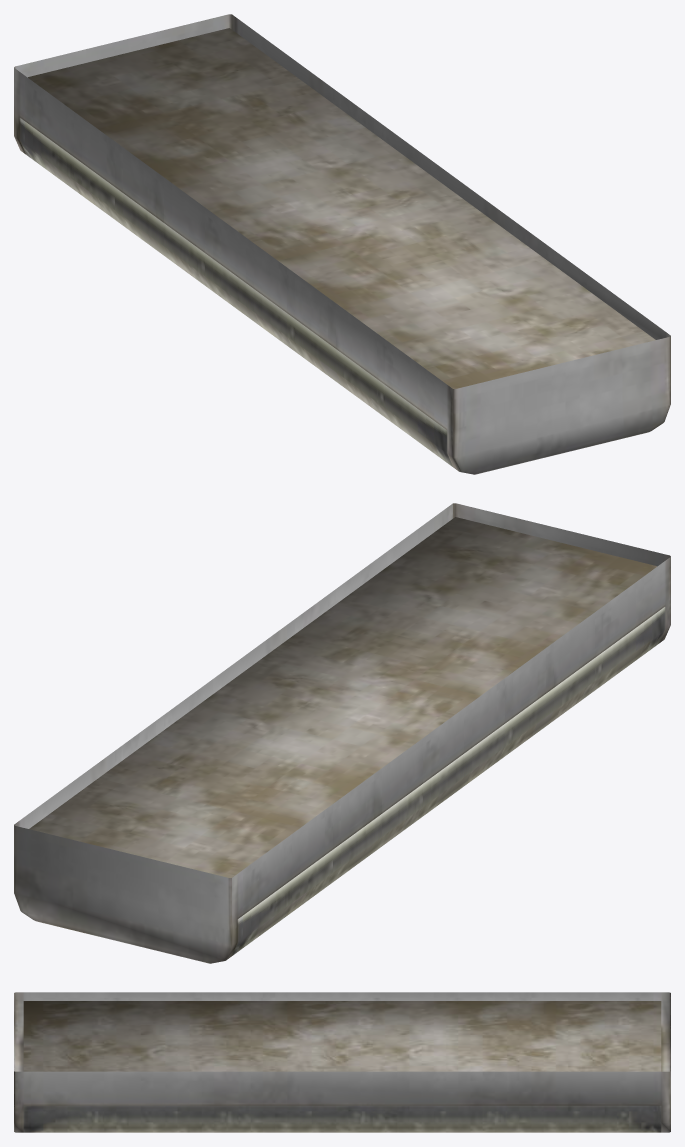
File: fluorescent.glb
3 renders of one model, top to bottom at view 1: azimuth 30°, elevation 25°; view 2: azimuth 150°, elevation 25°; view 3: azimuth 270°, elevation 25°, orthographic. The views are drawn at different scales.
Visible parts, largest first — view 1: Lamp; view 2: Lamp; view 3: Lamp.
Part boxes in pixels (bbox=[...]): Lamp: bbox=[14, 14, 670, 474]; Lamp: bbox=[14, 503, 670, 963]; Lamp: bbox=[14, 992, 670, 1132].
Bounding box in the file's own units: 20 × 8 × 70.
1 material, 1 textured.
